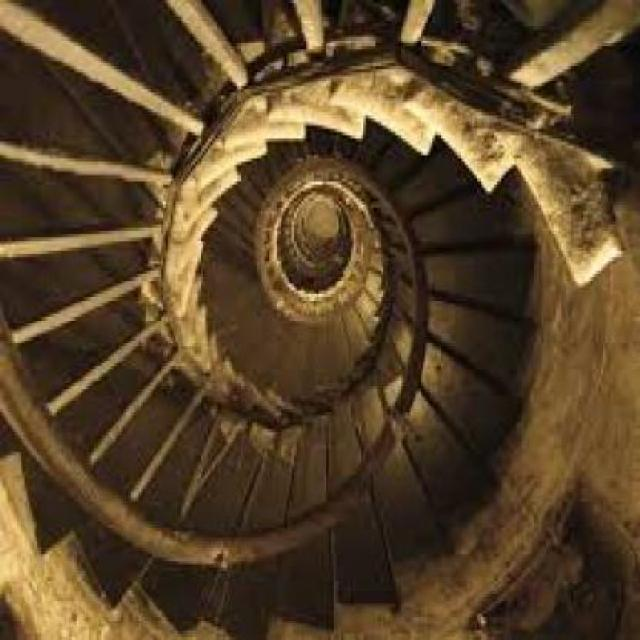stair: (255, 69, 576, 637)
